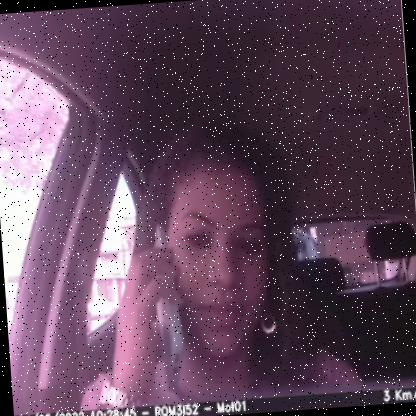phone: (131, 216, 190, 398)
